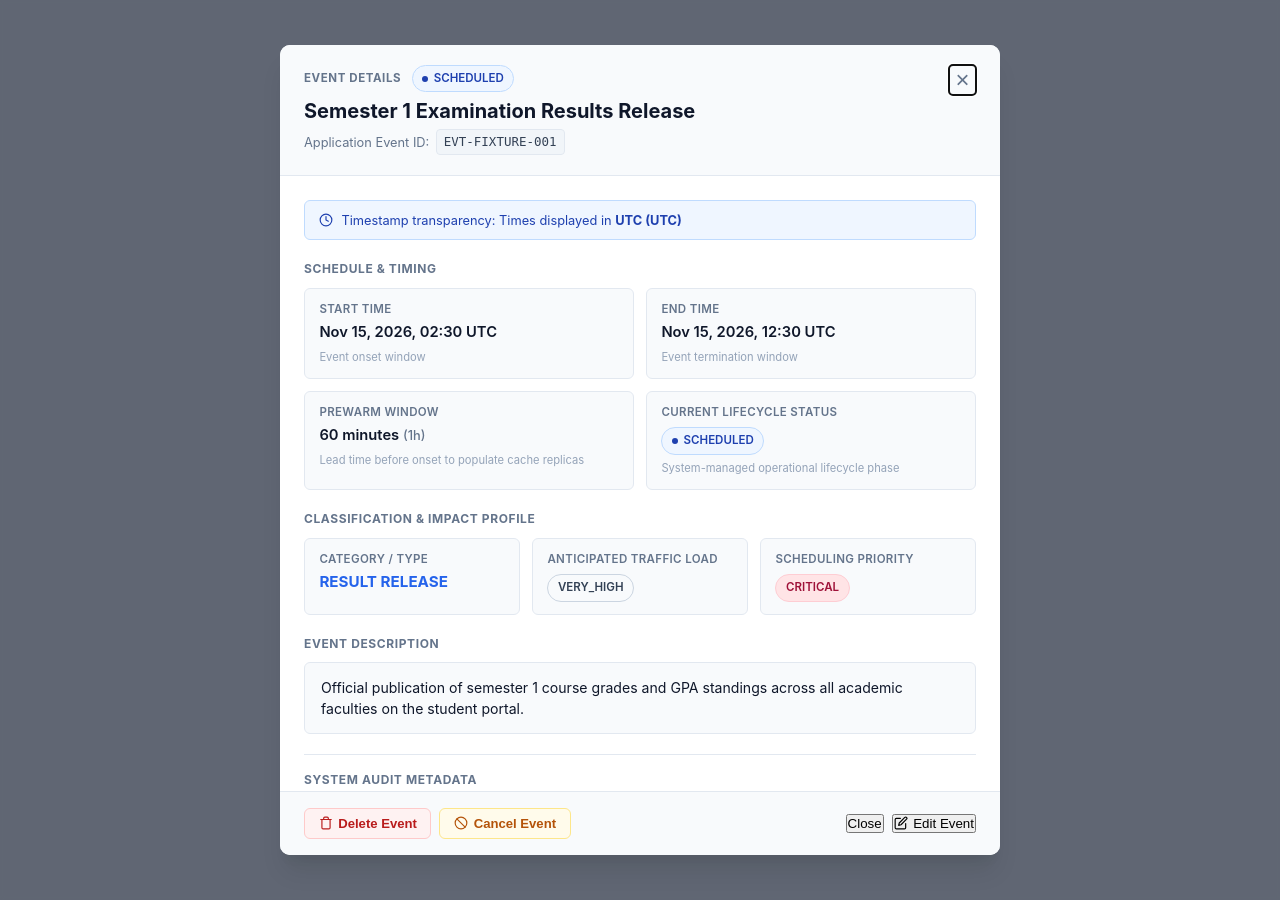
Part 3.4 — Event Details and Lifecycle Actions › 2. Event Cancellation Lifecycle Action › submits POST /api/events/:eventId/cancel on confirmation and updates status
Expected: the heading "Semester 1 Examination Results Release" is shown, x1=304 y1=98 x2=695 y2=124
Click the button "Cancel Event" at (505, 823), box x1=440 y1=808 x2=571 y2=839
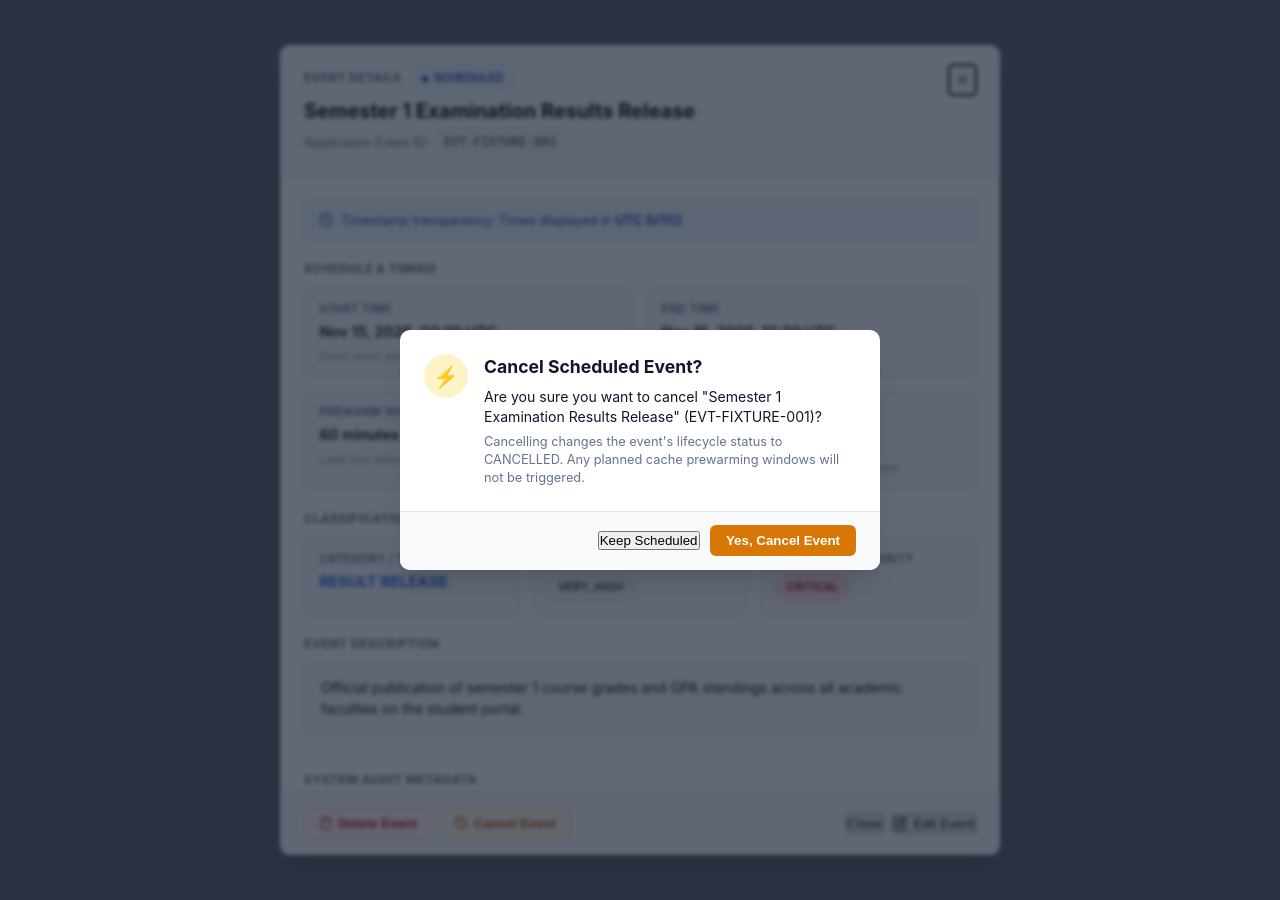
# Confirm cancellation
Click the button "Yes, Cancel Event" at (783, 541), box x1=710 y1=525 x2=856 y2=556
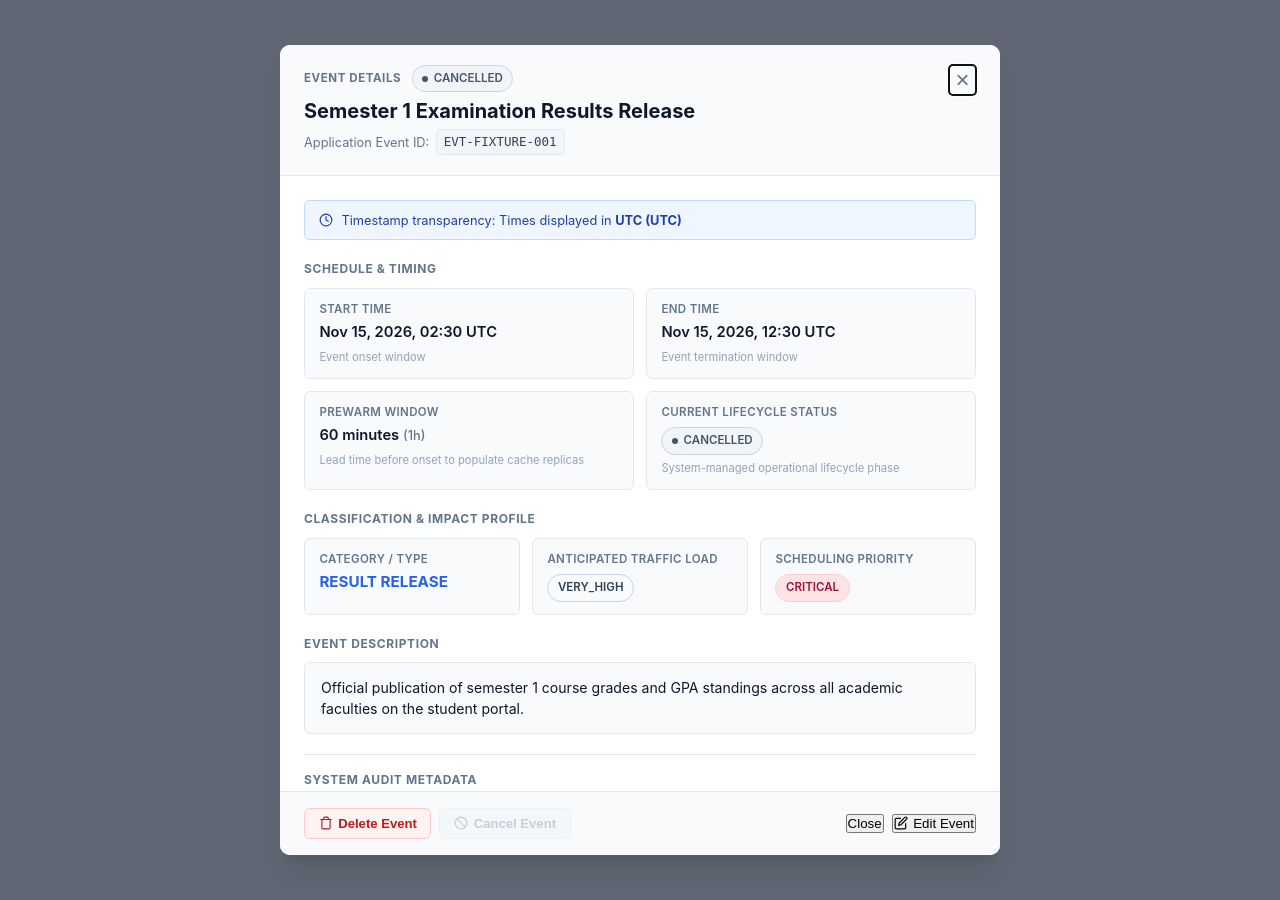
Expected: the heading "Cancel Scheduled Event?" is gone
